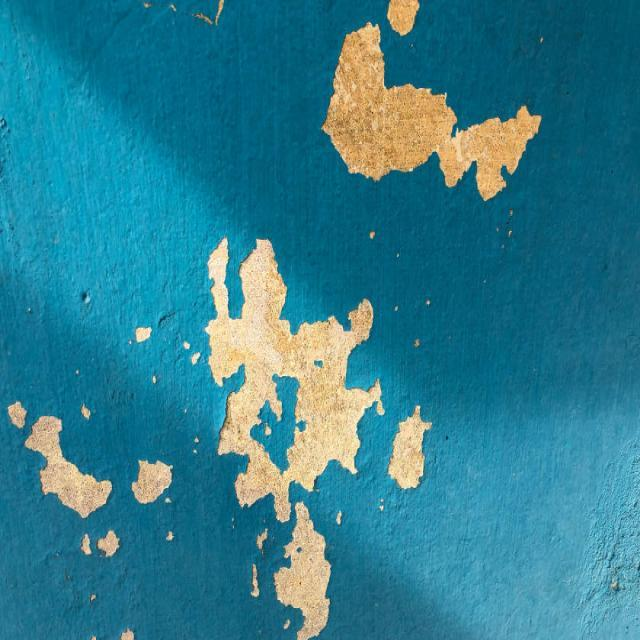peeling: (198, 229, 389, 631), (314, 18, 545, 207), (9, 399, 172, 525), (382, 419, 431, 497)
